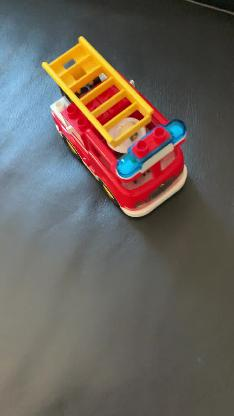lego fire truck: (38, 34, 190, 220)
